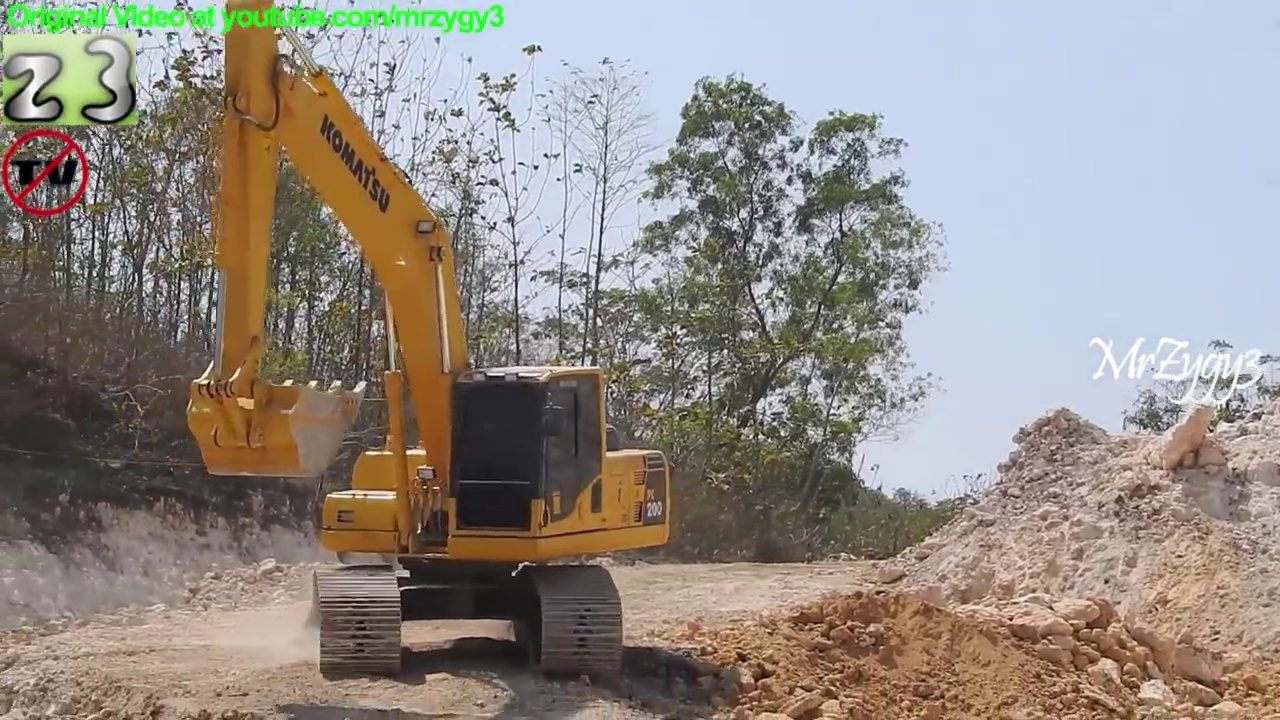excavator: (180, 1, 677, 692)
